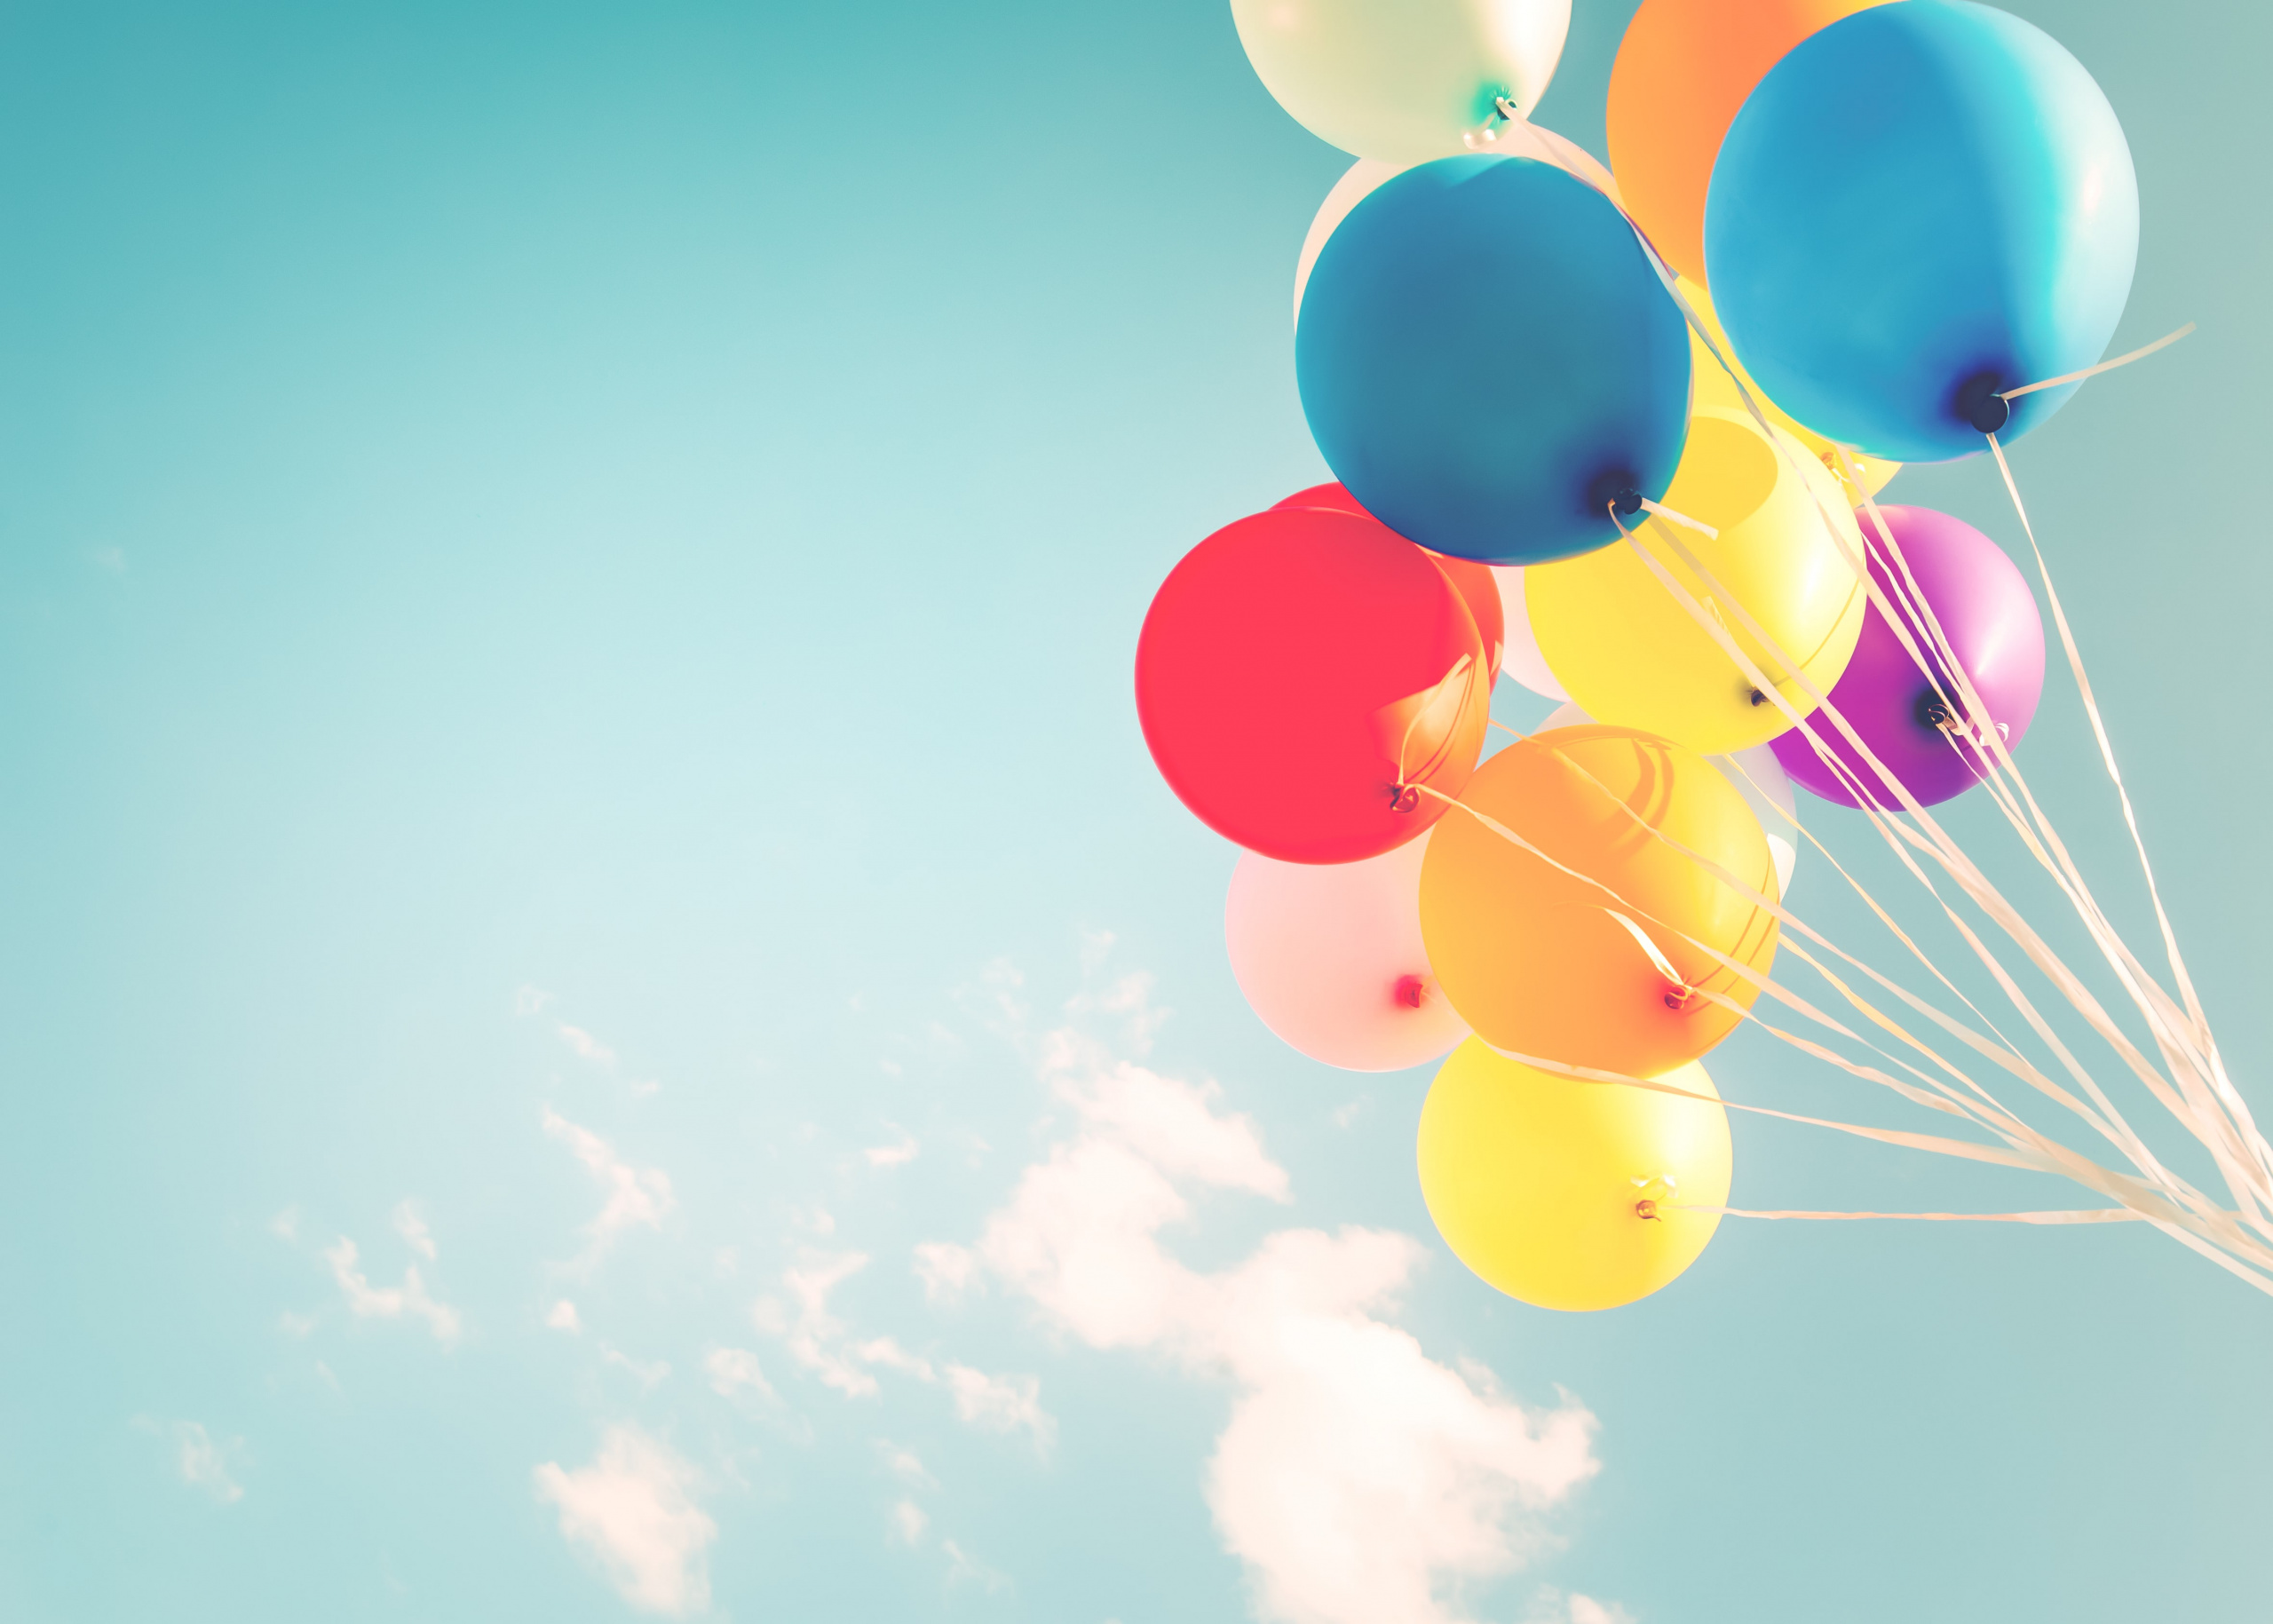Balloon: (1705, 2, 2146, 466), (1292, 153, 1696, 568), (1420, 722, 1788, 1070), (1137, 508, 1485, 865), (1526, 413, 1867, 758), (1765, 504, 2050, 807), (1422, 1035, 1733, 1311)
